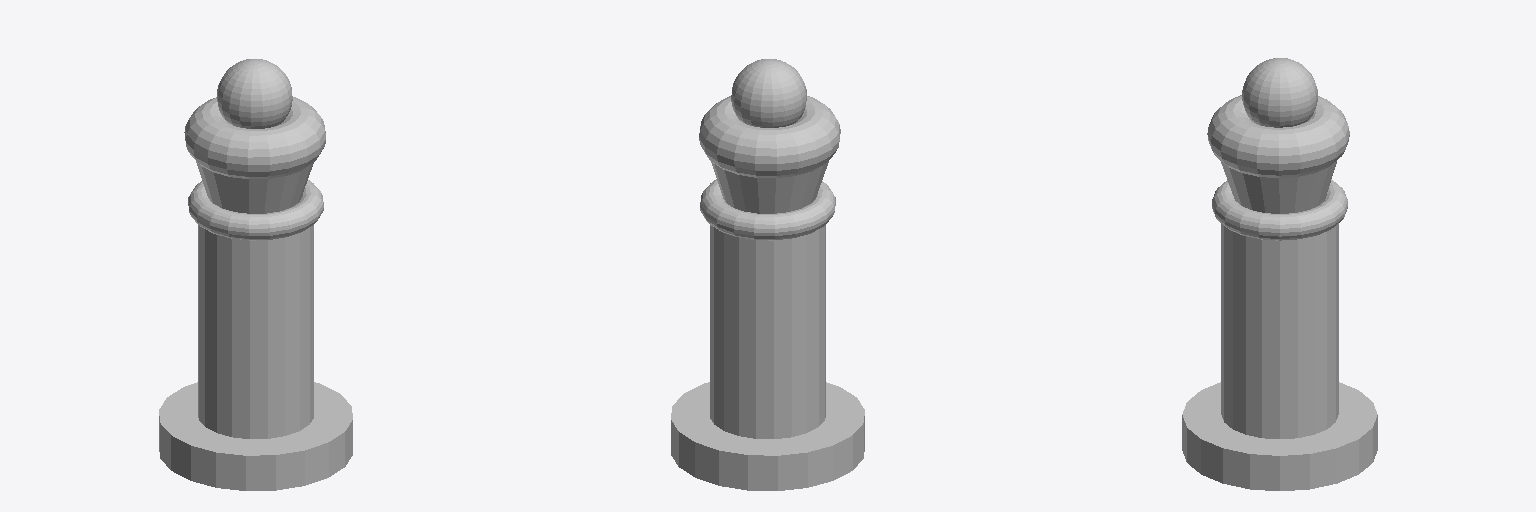
File: queen.obj
3 renders of one model, left to right at view 1: azimuth 30°, elevation 25°; view 2: azimuth 150°, elevation 25°; view 3: azimuth 270°, elevation 25°, orthographic.
Parts seen in each view (by area): view 1: pCylinder2, pCylinder1, pTorus2, pSphere1, pTorus1, pCone1; view 2: pCylinder2, pCylinder1, pTorus2, pSphere1, pTorus1, pCone1; view 3: pCylinder2, pCylinder1, pTorus2, pSphere1, pTorus1, pCone1.
Part boxes in pixels (bbox=[...]): pCylinder2: bbox=[198, 225, 313, 438]; pCylinder1: bbox=[159, 382, 352, 490]; pTorus2: bbox=[184, 97, 325, 178]; pSphere1: bbox=[217, 59, 292, 128]; pTorus1: bbox=[188, 180, 323, 240]; pCone1: bbox=[196, 162, 313, 213]; pCylinder2: bbox=[710, 225, 825, 438]; pCylinder1: bbox=[671, 382, 864, 490]; pTorus2: bbox=[699, 96, 840, 177]; pSphere1: bbox=[731, 59, 806, 127]; pTorus1: bbox=[700, 179, 835, 240]; pCone1: bbox=[711, 161, 828, 213]; pCylinder2: bbox=[1221, 223, 1338, 438]; pCylinder1: bbox=[1182, 382, 1377, 490]; pTorus2: bbox=[1207, 95, 1349, 177]; pSphere1: bbox=[1242, 58, 1317, 127]; pTorus1: bbox=[1212, 179, 1347, 240]; pCone1: bbox=[1220, 160, 1336, 213].
Bounding box in the file's own units: 2 × 4.38 × 2.